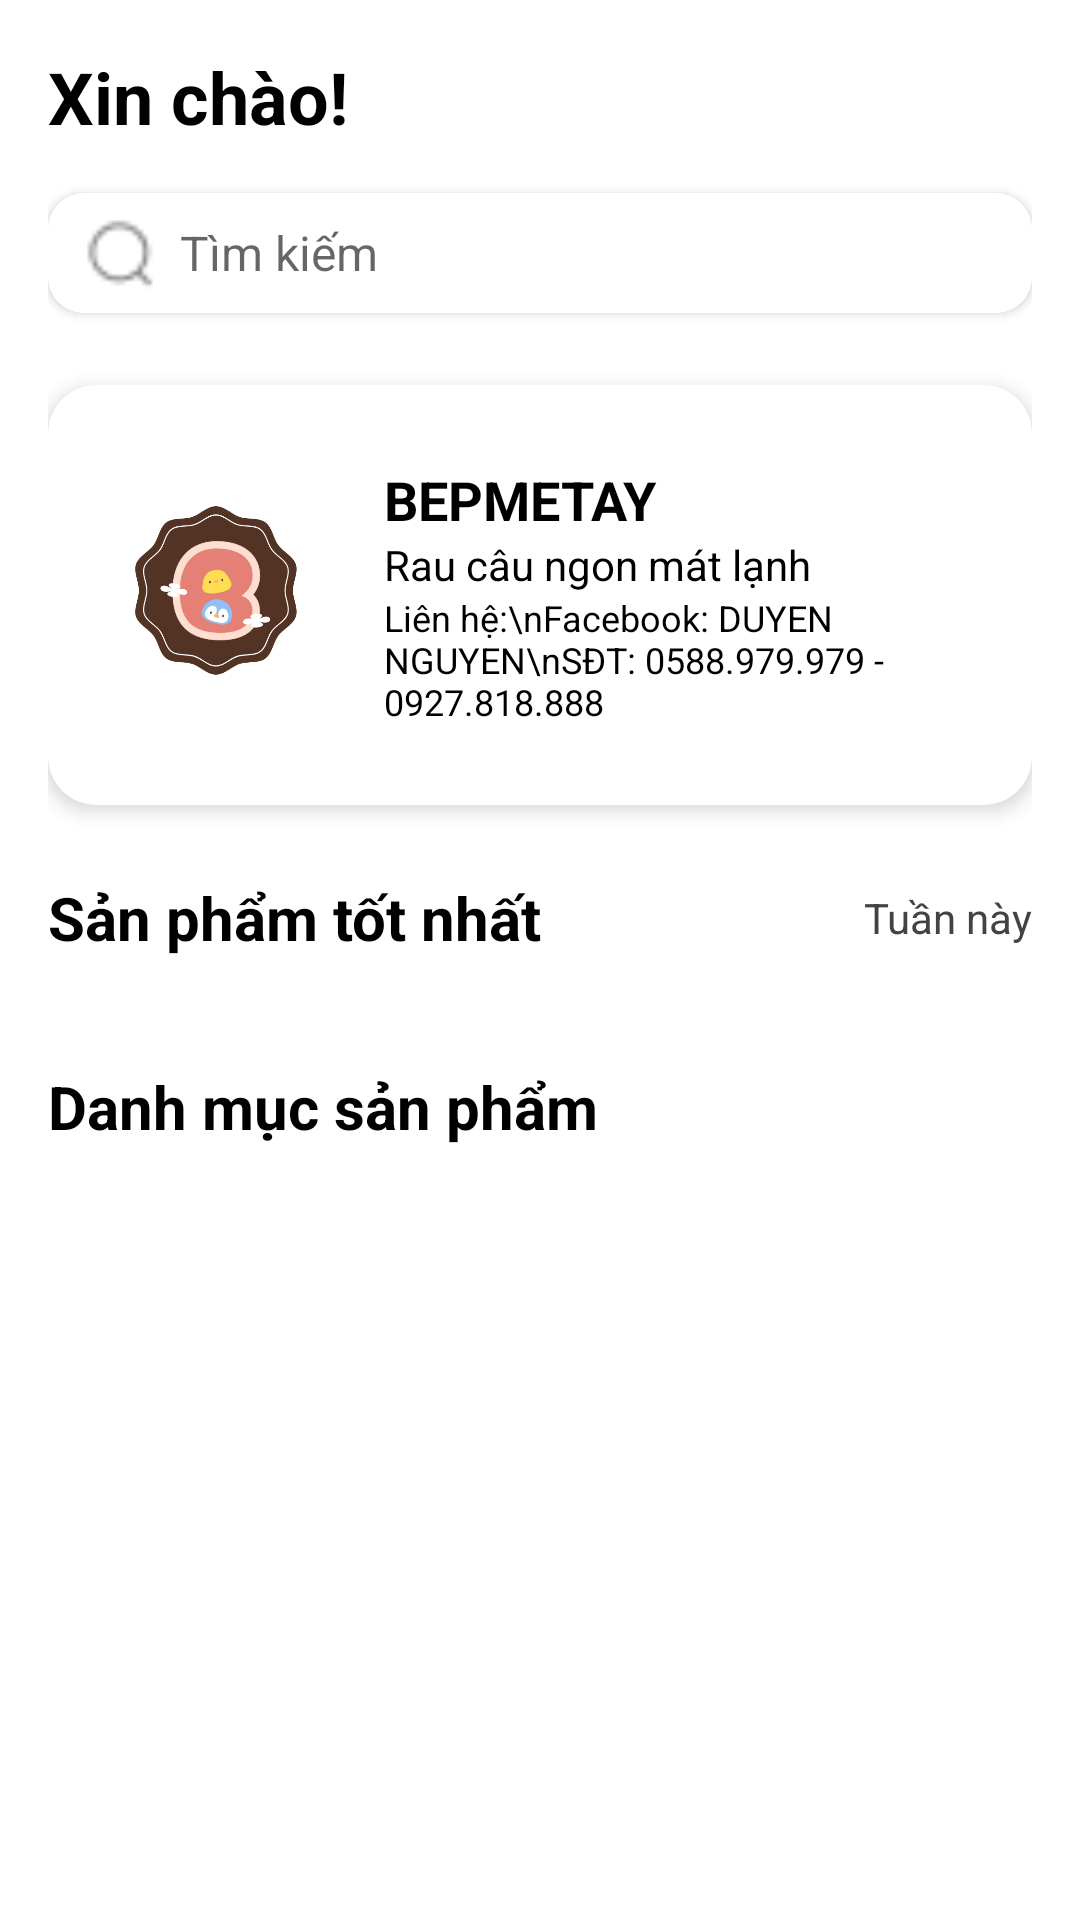

Icon bounding boxes for this 1080 x 1920 phone screenshot, format rect(x1, y1, x2, y2):
Search Icon: rect(88, 221, 152, 286)
